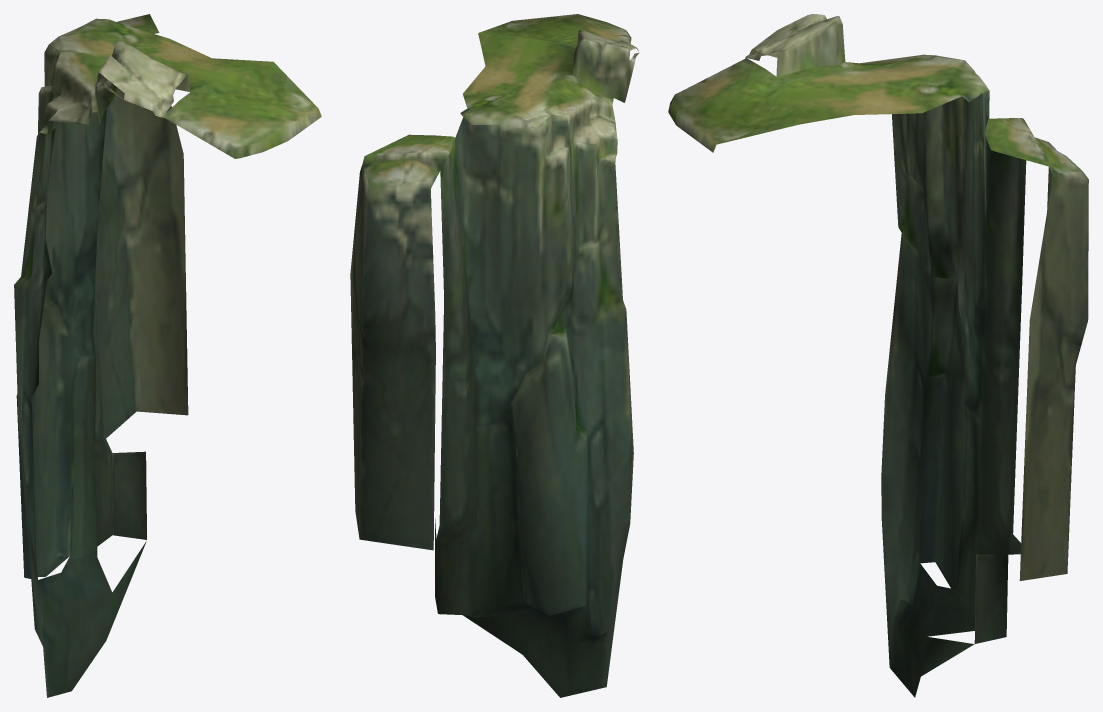
The model's file is S_Rock_Green054_H8.FBX.
The picture shows the model from 3 angles, left to right: view 1: azimuth 30°, elevation 25°; view 2: azimuth 150°, elevation 25°; view 3: azimuth 270°, elevation 25°; orthographic projection. The views are drawn at different scales.
Visible parts, largest first — view 1: S_Rock_Green054_H8; view 2: S_Rock_Green054_H8; view 3: S_Rock_Green054_H8.
Boxes of the visible parts, box(x1,y1,x2,y2) form: S_Rock_Green054_H8: box(14, 14, 321, 697); S_Rock_Green054_H8: box(350, 14, 639, 697); S_Rock_Green054_H8: box(668, 14, 1088, 697).
Bounding box in the file's own units: 863 × 2396 × 1331.
